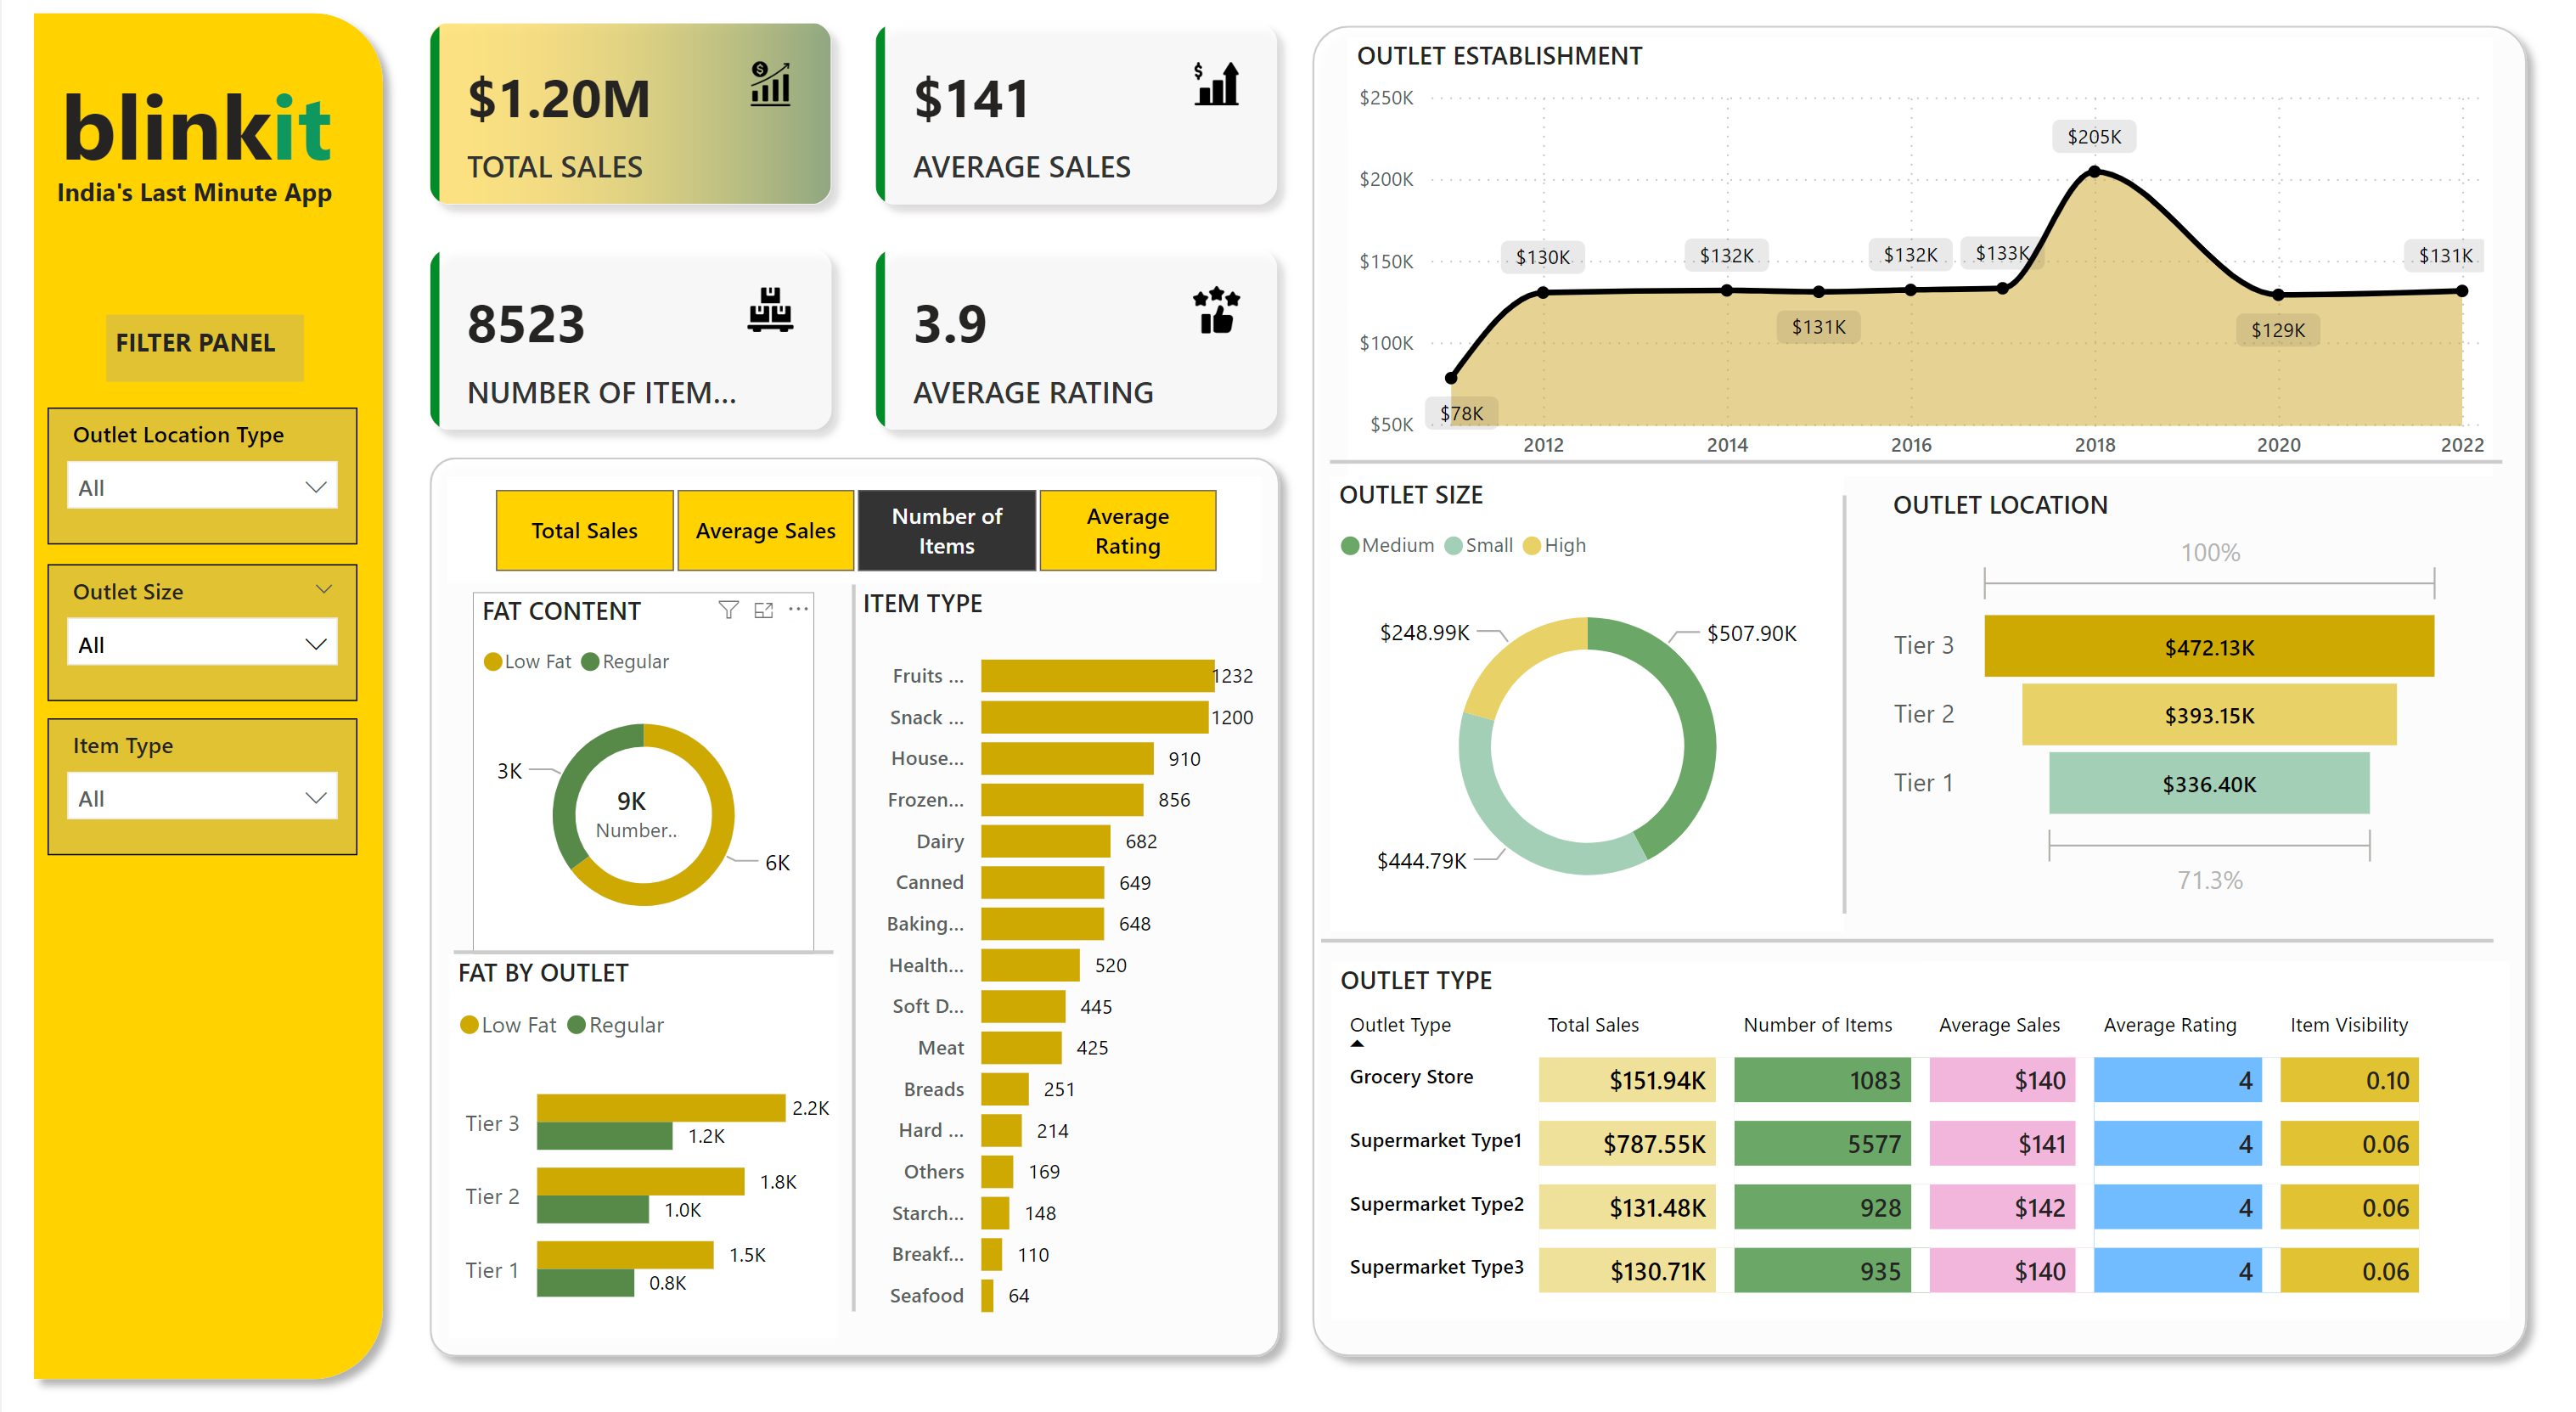

The page's visual inventory and layout, read from the dashboard file:
{"tool":"powerbi","page":{"name":"Blinkit Dashboard","canvas":[1400,800],"ordinal":0},"visuals":[{"type":"shape","box":[8.1,22.7,205,749.8],"z":0},{"type":"textbox","box":[26.4,52.7,167.7,82],"z":1000},{"type":"textbox","box":[24.9,112.8,167.7,30],"z":2000},{"type":"cardVisual","fields":{"Data":["BlinkIT Grocery Data.Total Sales","BlinkIT Grocery Data.Avearge Sales","BlinkIT Grocery Data.Number of Items","BlinkIT Grocery Data.Average Rating"]},"box":[212.3,19.8,488.4,252.6],"z":3000},{"type":"shape","box":[220.3,260.5,473.2,499.7],"z":4000},{"type":"donutChart","title":"FAT CONTENT","fields":{"Y":["BlinkIT Grocery Data.Number of Items"],"Category":["BlinkIT Grocery Data.Item Fat Content"]},"box":[252.6,341.9,182.3,193.3],"z":5000},{"type":"slicer","fields":{"Values":["Metrics.Metrics"]},"box":[238.5,279.4,436.1,57.5],"z":6000},{"type":"cardVisual","fields":{"Data":["BlinkIT Grocery Data.Number of Items"]},"box":[295.1,426.2,84.2,66.6],"z":7000},{"type":"clusteredBarChart","title":"FAT BY OUTLET","fields":{"Y":["BlinkIT Grocery Data.Number of Items"],"Category":["BlinkIT Grocery Data.Outlet Location Type"],"Series":["BlinkIT Grocery Data.Item Fat Content"]},"box":[239.4,535.3,208.7,205.8],"z":8000},{"type":"shape","box":[242.4,523.5,203.6,22.7],"z":9000},{"type":"shape","box":[445.9,337.6,20.5,389.5],"z":10000},{"type":"barChart","title":"ITEM TYPE","fields":{"Y":["BlinkIT Grocery Data.Number of Items"],"Category":["BlinkIT Grocery Data.Item Type"]},"box":[456.2,337.6,218.9,403.5],"z":11000},{"type":"shape","box":[693.4,29.3,668.5,730.8],"z":12000},{"type":"lineChart","title":"OUTLET ESTABLISHMENT","fields":{"Y":["BlinkIT Grocery Data.Total Sales"],"Category":["BlinkIT Grocery Data.Outlet Establishment Year"]},"box":[721.2,44.7,613.6,235],"z":13000},{"type":"shape","box":[711.7,260.7,628.2,22.7],"z":14000},{"type":"donutChart","title":"OUTLET SIZE","fields":{"Y":["BlinkIT Grocery Data.Total Sales"],"Category":["BlinkIT Grocery Data.Outlet Size"]},"box":[711.7,279.7,275.3,243.8],"z":15000},{"type":"shape","box":[976.8,290,20.5,224.1],"z":16000},{"type":"funnel","title":"OUTLET LOCATION","fields":{"Y":["BlinkIT Grocery Data.Total Sales"],"Category":["BlinkIT Grocery Data.Outlet Location Type"]},"box":[1008.3,284.8,304.6,225.5],"z":17000},{"type":"shape","box":[706.6,516.9,628.2,22.7],"z":18000},{"type":"pivotTable","title":"OUTLET TYPE","fields":{"Rows":["BlinkIT Grocery Data.Outlet Type"],"Values":["BlinkIT Grocery Data.Total Sales","BlinkIT Grocery Data.Number of Items","BlinkIT Grocery Data.Average Sales","BlinkIT Grocery Data.Average Rating","Avg(BlinkIT Grocery Data.Item Visibility)"]},"box":[712.4,539.6,631.2,191.8],"z":19000},{"type":"slicer","fields":{"Values":["BlinkIT Grocery Data.Outlet Location Type"]},"box":[24.9,243.1,166.2,73.2],"z":20000},{"type":"slicer","fields":{"Values":["BlinkIT Grocery Data.Outlet Size"]},"box":[24.9,326.6,166.2,73.2],"z":21000},{"type":"slicer","fields":{"Values":["BlinkIT Grocery Data.Item Type"]},"box":[24.9,409.3,166.2,73.2],"z":22000},{"type":"textbox","box":[55.6,193.3,106.2,35.9],"z":23000}]}

Visuals, with their boxes on the page's 1400x800 design canvas (x1, y1, x2, y2). These are canvas units, not pixel positions in the 2576x1412 screenshot, which may show the page scaled, cropped or inside an application window:
shape: {"left": 8, "top": 23, "right": 213, "bottom": 772}
textbox: {"left": 26, "top": 53, "right": 194, "bottom": 135}
textbox: {"left": 25, "top": 113, "right": 193, "bottom": 143}
cardVisual - BlinkIT Grocery Data.Total Sales x BlinkIT Grocery Data.Avearge Sales: {"left": 212, "top": 20, "right": 701, "bottom": 272}
shape: {"left": 220, "top": 260, "right": 694, "bottom": 760}
"FAT CONTENT" donutChart: {"left": 253, "top": 342, "right": 435, "bottom": 535}
slicer - Metrics.Metrics: {"left": 238, "top": 279, "right": 675, "bottom": 337}
cardVisual - BlinkIT Grocery Data.Number of Items: {"left": 295, "top": 426, "right": 379, "bottom": 493}
"FAT BY OUTLET" clusteredBarChart: {"left": 239, "top": 535, "right": 448, "bottom": 741}
shape: {"left": 242, "top": 524, "right": 446, "bottom": 546}
shape: {"left": 446, "top": 338, "right": 466, "bottom": 727}
"ITEM TYPE" barChart: {"left": 456, "top": 338, "right": 675, "bottom": 741}
shape: {"left": 693, "top": 29, "right": 1362, "bottom": 760}
"OUTLET ESTABLISHMENT" lineChart: {"left": 721, "top": 45, "right": 1335, "bottom": 280}
shape: {"left": 712, "top": 261, "right": 1340, "bottom": 283}
"OUTLET SIZE" donutChart: {"left": 712, "top": 280, "right": 987, "bottom": 524}
shape: {"left": 977, "top": 290, "right": 997, "bottom": 514}
"OUTLET LOCATION" funnel: {"left": 1008, "top": 285, "right": 1313, "bottom": 510}
shape: {"left": 707, "top": 517, "right": 1335, "bottom": 540}
"OUTLET TYPE" pivotTable: {"left": 712, "top": 540, "right": 1344, "bottom": 731}
slicer - BlinkIT Grocery Data.Outlet Location Type: {"left": 25, "top": 243, "right": 191, "bottom": 316}
slicer - BlinkIT Grocery Data.Outlet Size: {"left": 25, "top": 327, "right": 191, "bottom": 400}
slicer - BlinkIT Grocery Data.Item Type: {"left": 25, "top": 409, "right": 191, "bottom": 482}
textbox: {"left": 56, "top": 193, "right": 162, "bottom": 229}
